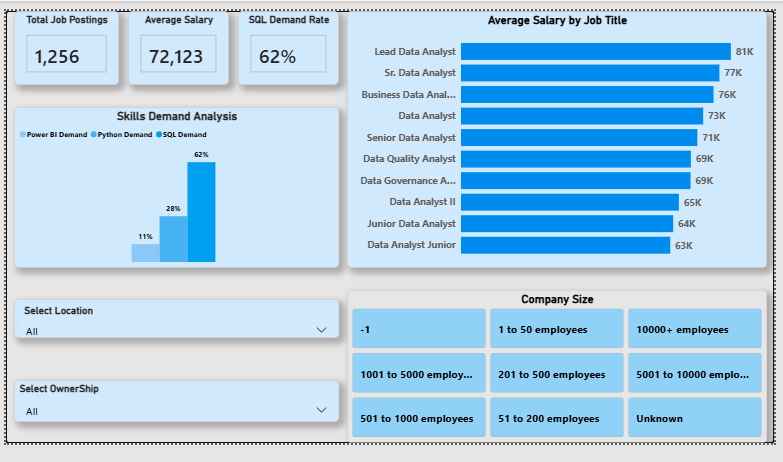

The dashboard page shown, as its layout file describes it:
{"tool":"powerbi","page":{"name":"Page 1","canvas":[1280,720],"ordinal":0},"visuals":[{"type":"cardVisual","title":"Total Job Postings","fields":{"Data":["Count(Cleaned_Job_Market_Data.Job Title)"]},"box":[13.3,0,175,123.3],"z":0},{"type":"cardVisual","title":"Average Salary","fields":{"Data":["Avg(Cleaned_Job_Market_Data.avg_salary)"]},"box":[203.3,0,168.3,123.3],"z":1},{"type":"cardVisual","title":"SQL Demand Rate","fields":{"Data":["Avg(Cleaned_Job_Market_Data.sql_req)"]},"box":[386.7,0,168.3,123.3],"z":2},{"type":"clusteredColumnChart","title":"Skills Demand Analysis","fields":{"Y":["_Measures.Power BI Demand","_Measures.Python Demand","_Measures.SQL Demand"]},"box":[13.3,160,541.7,268.3],"z":3},{"type":"clusteredBarChart","title":"Average Salary by Job Title","fields":{"Category":["Cleaned_Job_Market_Data.Job Title"],"Y":["Avg(Cleaned_Job_Market_Data.avg_salary)"]},"box":[568.3,0,700,428.3],"z":4},{"type":"slicer","fields":{"Values":["Cleaned_Job_Market_Data.Location"]},"box":[13.3,480,541.7,65],"z":5},{"type":"slicer","title":"Select OwnerShip","fields":{"Values":["Cleaned_Job_Market_Data.Type of ownership"]},"box":[13.3,615,541.7,70],"z":7},{"type":"advancedSlicerVisual","title":"Company Size","fields":{"Values":["Cleaned_Job_Market_Data.Size"]},"box":[568.3,465,700,255],"z":8}]}

Visuals, with their boxes in screenshot pixels (x1, y1, x2, y2):
"Total Job Postings" cardVisual: pyautogui.locateOnScreen(16, 6, 122, 81)
"Average Salary" cardVisual: pyautogui.locateOnScreen(131, 6, 232, 81)
"SQL Demand Rate" cardVisual: pyautogui.locateOnScreen(241, 6, 343, 81)
"Skills Demand Analysis" clusteredColumnChart: pyautogui.locateOnScreen(16, 103, 343, 264)
"Average Salary by Job Title" clusteredBarChart: pyautogui.locateOnScreen(351, 6, 773, 264)
slicer - Cleaned_Job_Market_Data.Location: pyautogui.locateOnScreen(16, 296, 343, 335)
"Select OwnerShip" slicer: pyautogui.locateOnScreen(16, 377, 343, 419)
"Company Size" advancedSlicerVisual: pyautogui.locateOnScreen(351, 287, 773, 440)
